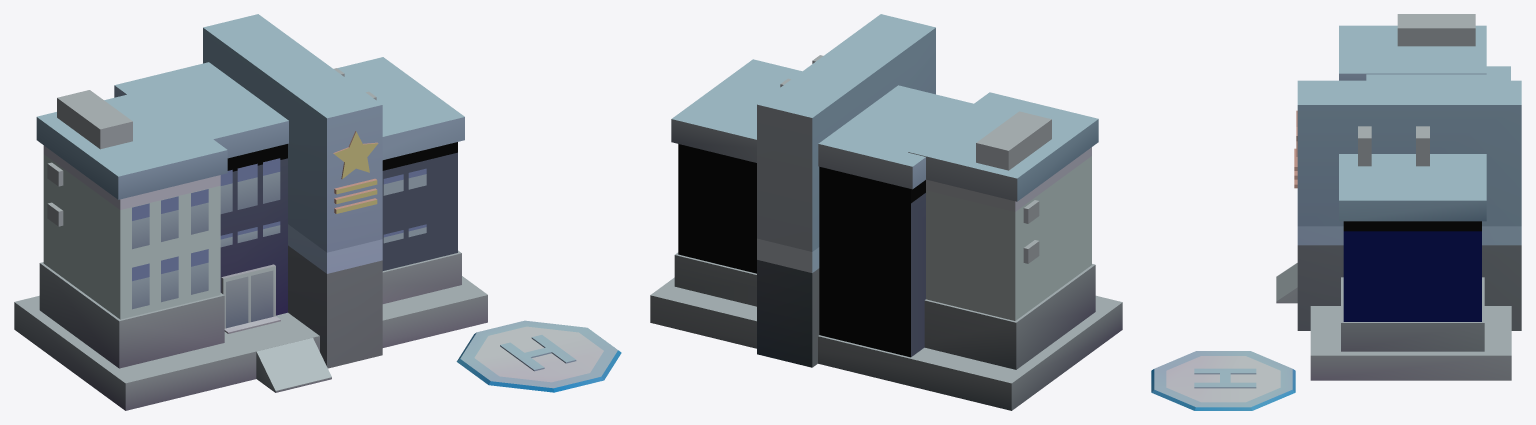
Rendered from police_station.glb.
3 renders of one model, left to right at view 1: azimuth 30°, elevation 25°; view 2: azimuth 150°, elevation 25°; view 3: azimuth 270°, elevation 25°, orthographic. The views are drawn at different scales.
Parts seen in each view (by area): view 1: police_station; view 2: police_station; view 3: police_station.
Part boxes in pixels (bbox=[...]): police_station: bbox=[14, 14, 621, 410]; police_station: bbox=[650, 14, 1122, 410]; police_station: bbox=[1151, 14, 1521, 410].
Size of the model in its own units: 4.3 by 2.38 by 3.54.
